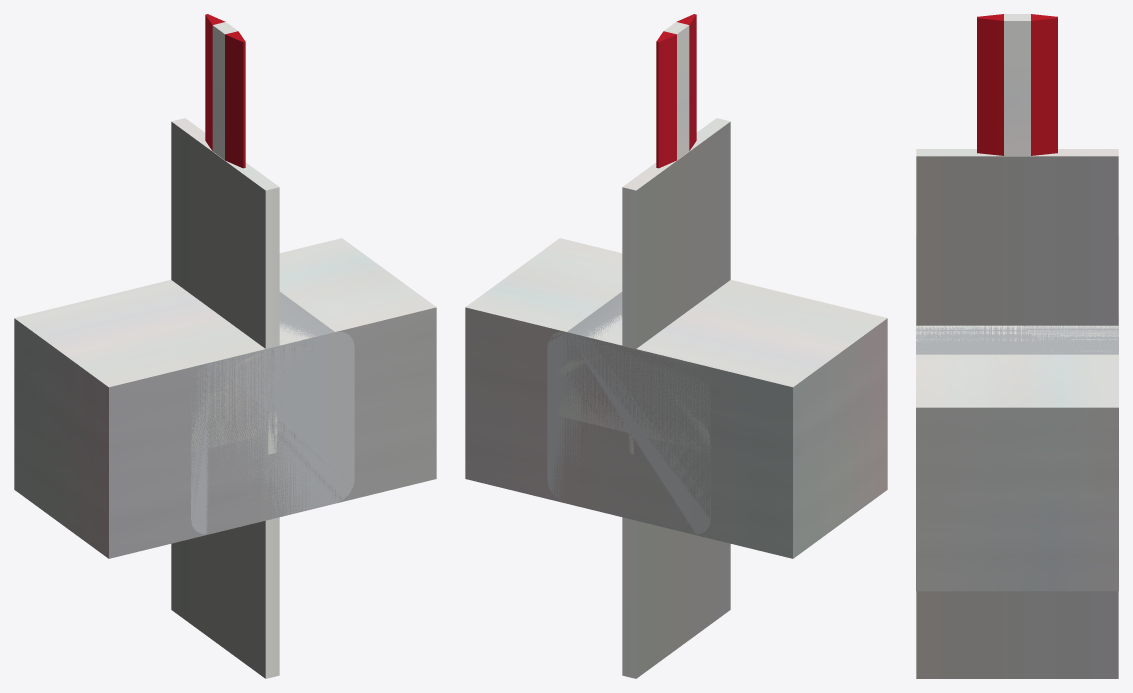
File: TrackAndHurdles.fbx
3 views of the same model, side by side, from view 1: azimuth 30°, elevation 25°; view 2: azimuth 150°, elevation 25°; view 3: azimuth 270°, elevation 25° (orthographic). The views are drawn at different scales.
Visible parts, largest first — view 1: Track, Cube, Hurdle2, Cylinder, Hurdle; view 2: Track, Cube, Hurdle2, Cylinder, Hurdle; view 3: Cube, Track, Cylinder, Hurdle2.
Part boxes in pixels (bbox=[...]): Track: bbox=[14, 238, 436, 558]; Cube: bbox=[171, 118, 279, 678]; Hurdle2: bbox=[191, 292, 354, 534]; Cylinder: bbox=[205, 14, 245, 168]; Hurdle: bbox=[191, 345, 313, 452]; Track: bbox=[465, 238, 887, 558]; Cube: bbox=[622, 118, 730, 678]; Hurdle2: bbox=[547, 292, 710, 534]; Cylinder: bbox=[656, 14, 696, 168]; Hurdle: bbox=[556, 354, 710, 452]; Cube: bbox=[916, 149, 1118, 678]; Track: bbox=[916, 236, 1118, 591]; Cylinder: bbox=[977, 14, 1057, 155]; Hurdle2: bbox=[916, 319, 1118, 354].
Size of the model in its own units: 400 by 716 by 200.
